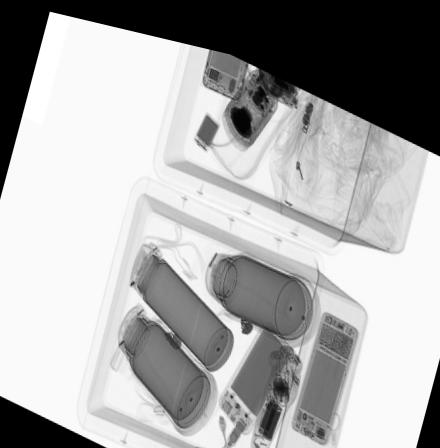Powerbank: (213, 305, 296, 430)
